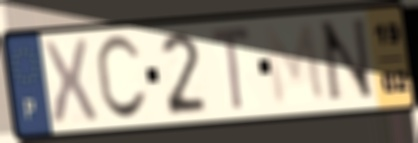2: (157, 29, 212, 120)
C: (93, 32, 151, 125)
M: (261, 21, 329, 110)
N: (316, 15, 379, 107)
T: (208, 23, 254, 116)
X: (39, 36, 102, 130)
